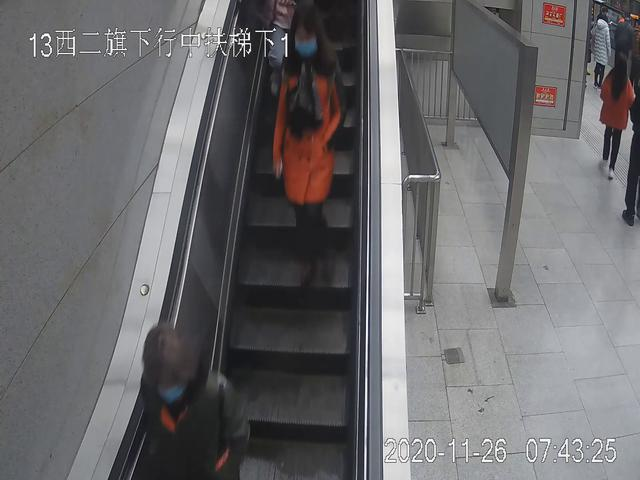person: (272, 16, 342, 287), (142, 326, 247, 480), (600, 51, 635, 178), (591, 9, 609, 89)
